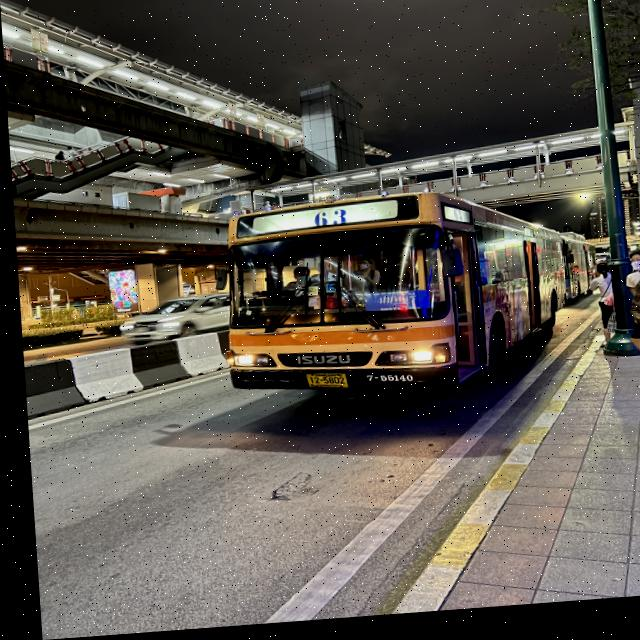BMTA-bus: (211, 192, 561, 412)
Bus-Line-Number: (302, 211, 356, 233)
Destination-Sign-Normal: (358, 293, 429, 320)
